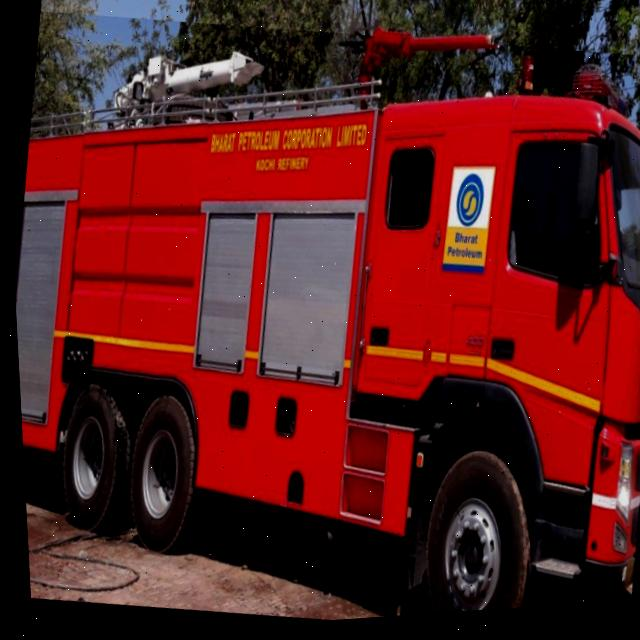Fire Truck: (1, 0, 640, 640)
